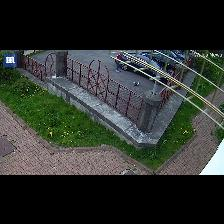person: (116, 60, 119, 72)
